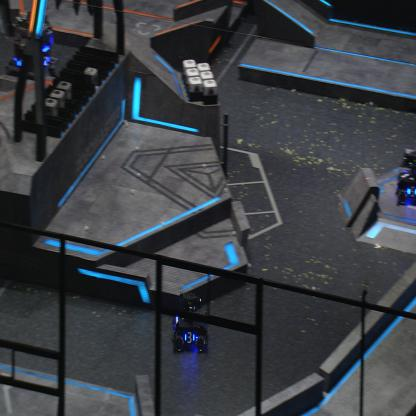car: (4, 10, 59, 82), (171, 290, 209, 354), (395, 148, 416, 208)
